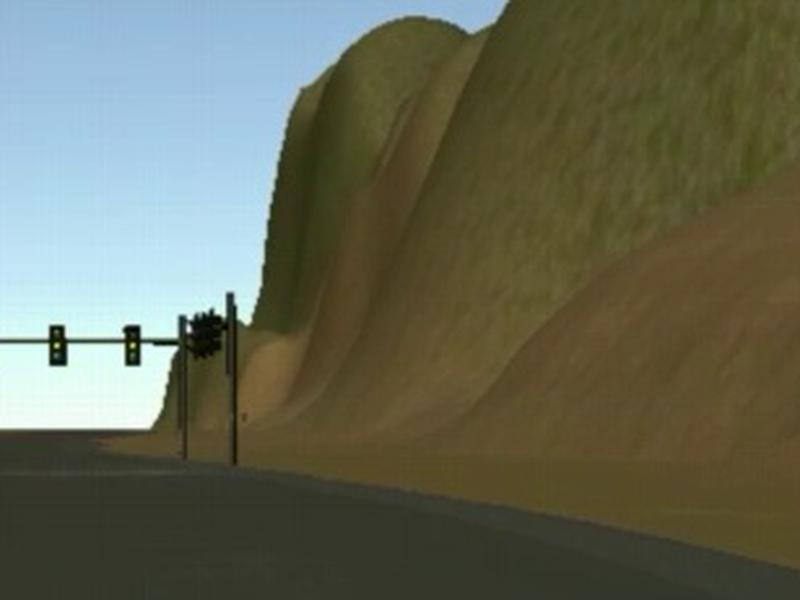Yellow: (48, 323, 66, 366), (123, 325, 139, 367)
